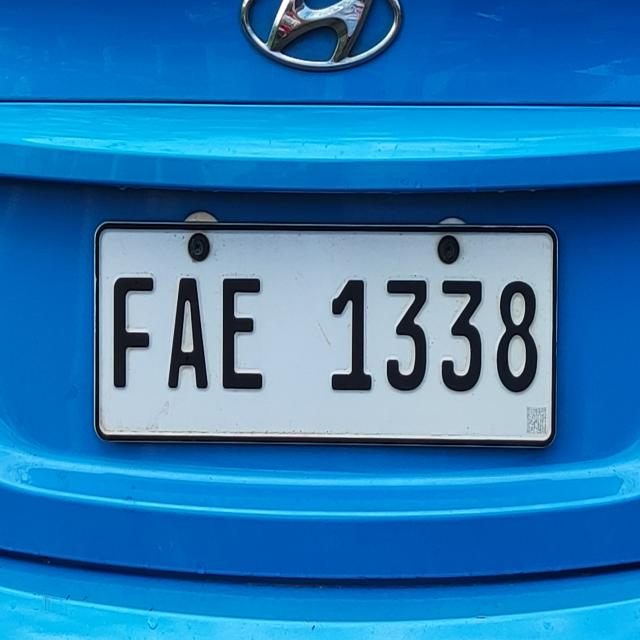plate: (91, 218, 560, 452)
